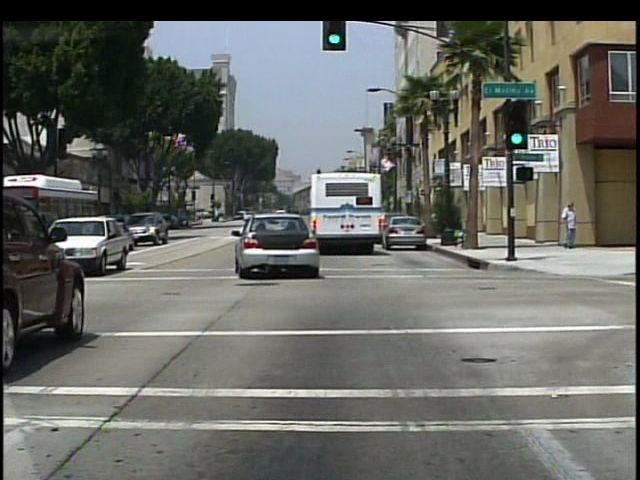person: (560, 202, 579, 250)
